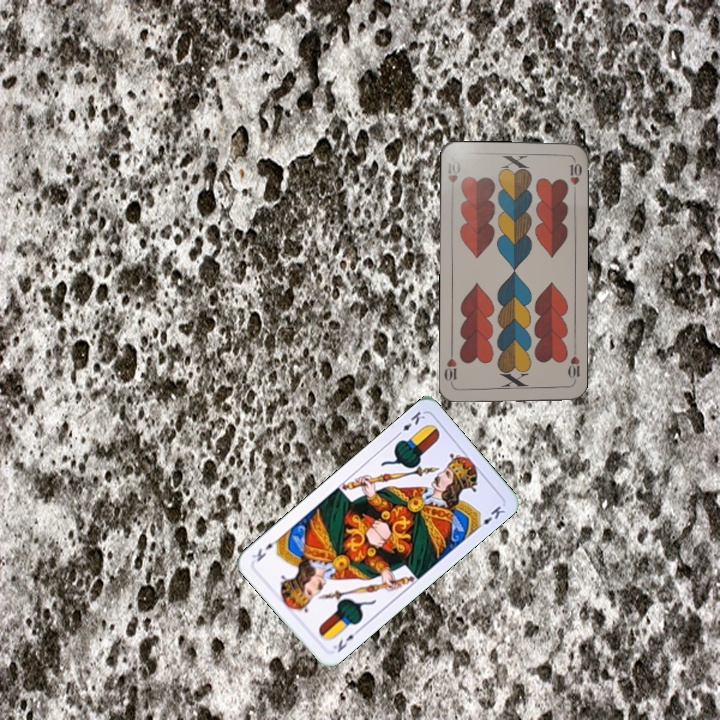EK: (392, 407, 428, 440), (329, 625, 363, 655)
H10: (443, 156, 463, 197), (564, 345, 583, 386)
